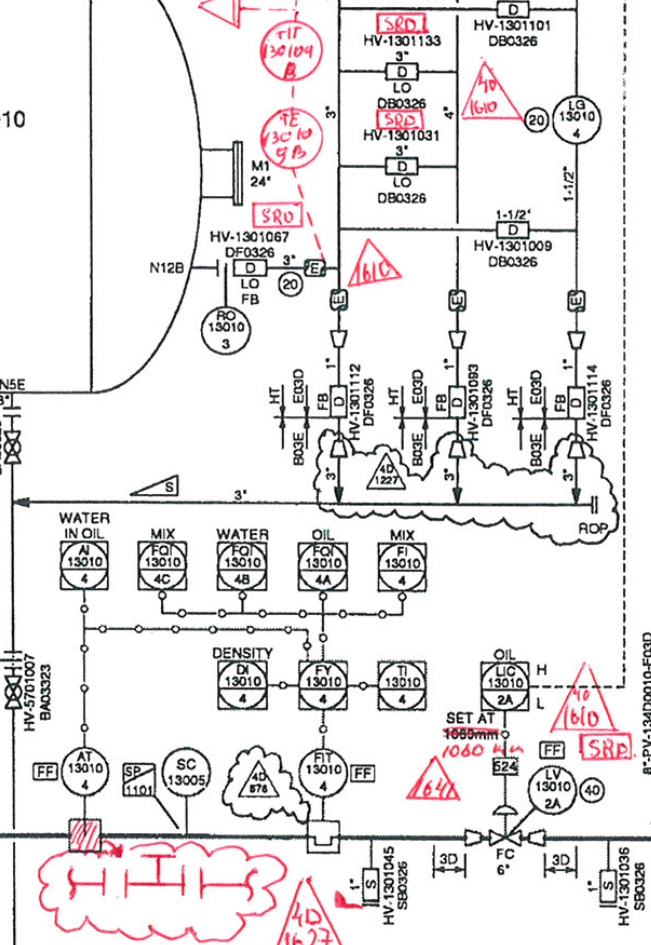Instrument: (193, 300, 259, 361), (155, 740, 216, 805), (293, 742, 349, 807), (549, 89, 606, 148), (525, 761, 578, 823), (60, 740, 113, 797)
Instrument-square: (369, 650, 434, 719), (52, 533, 116, 597), (207, 653, 274, 714), (289, 533, 353, 596), (370, 536, 434, 597), (473, 655, 534, 718), (131, 536, 194, 596), (211, 534, 272, 595), (292, 653, 352, 714)
